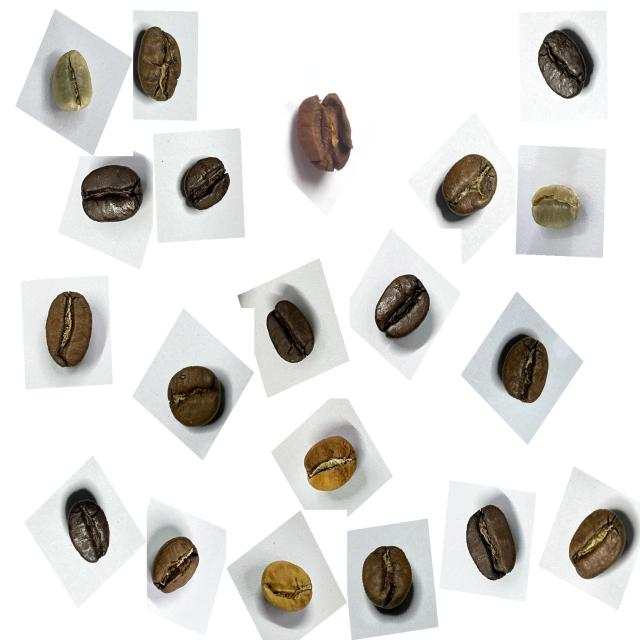bad: (283, 84, 364, 186)
dark: (526, 21, 602, 116), (366, 261, 440, 351), (70, 158, 149, 240), (54, 487, 123, 580), (256, 291, 324, 378), (174, 150, 240, 228)
green: (39, 40, 107, 126), (523, 172, 591, 245)
light: (251, 548, 322, 630), (297, 427, 368, 508)
medium: (30, 280, 108, 383), (558, 497, 638, 594), (452, 496, 529, 594), (352, 536, 427, 628), (488, 328, 562, 418), (126, 19, 196, 114), (157, 353, 232, 440), (431, 144, 505, 228), (144, 528, 210, 609)
